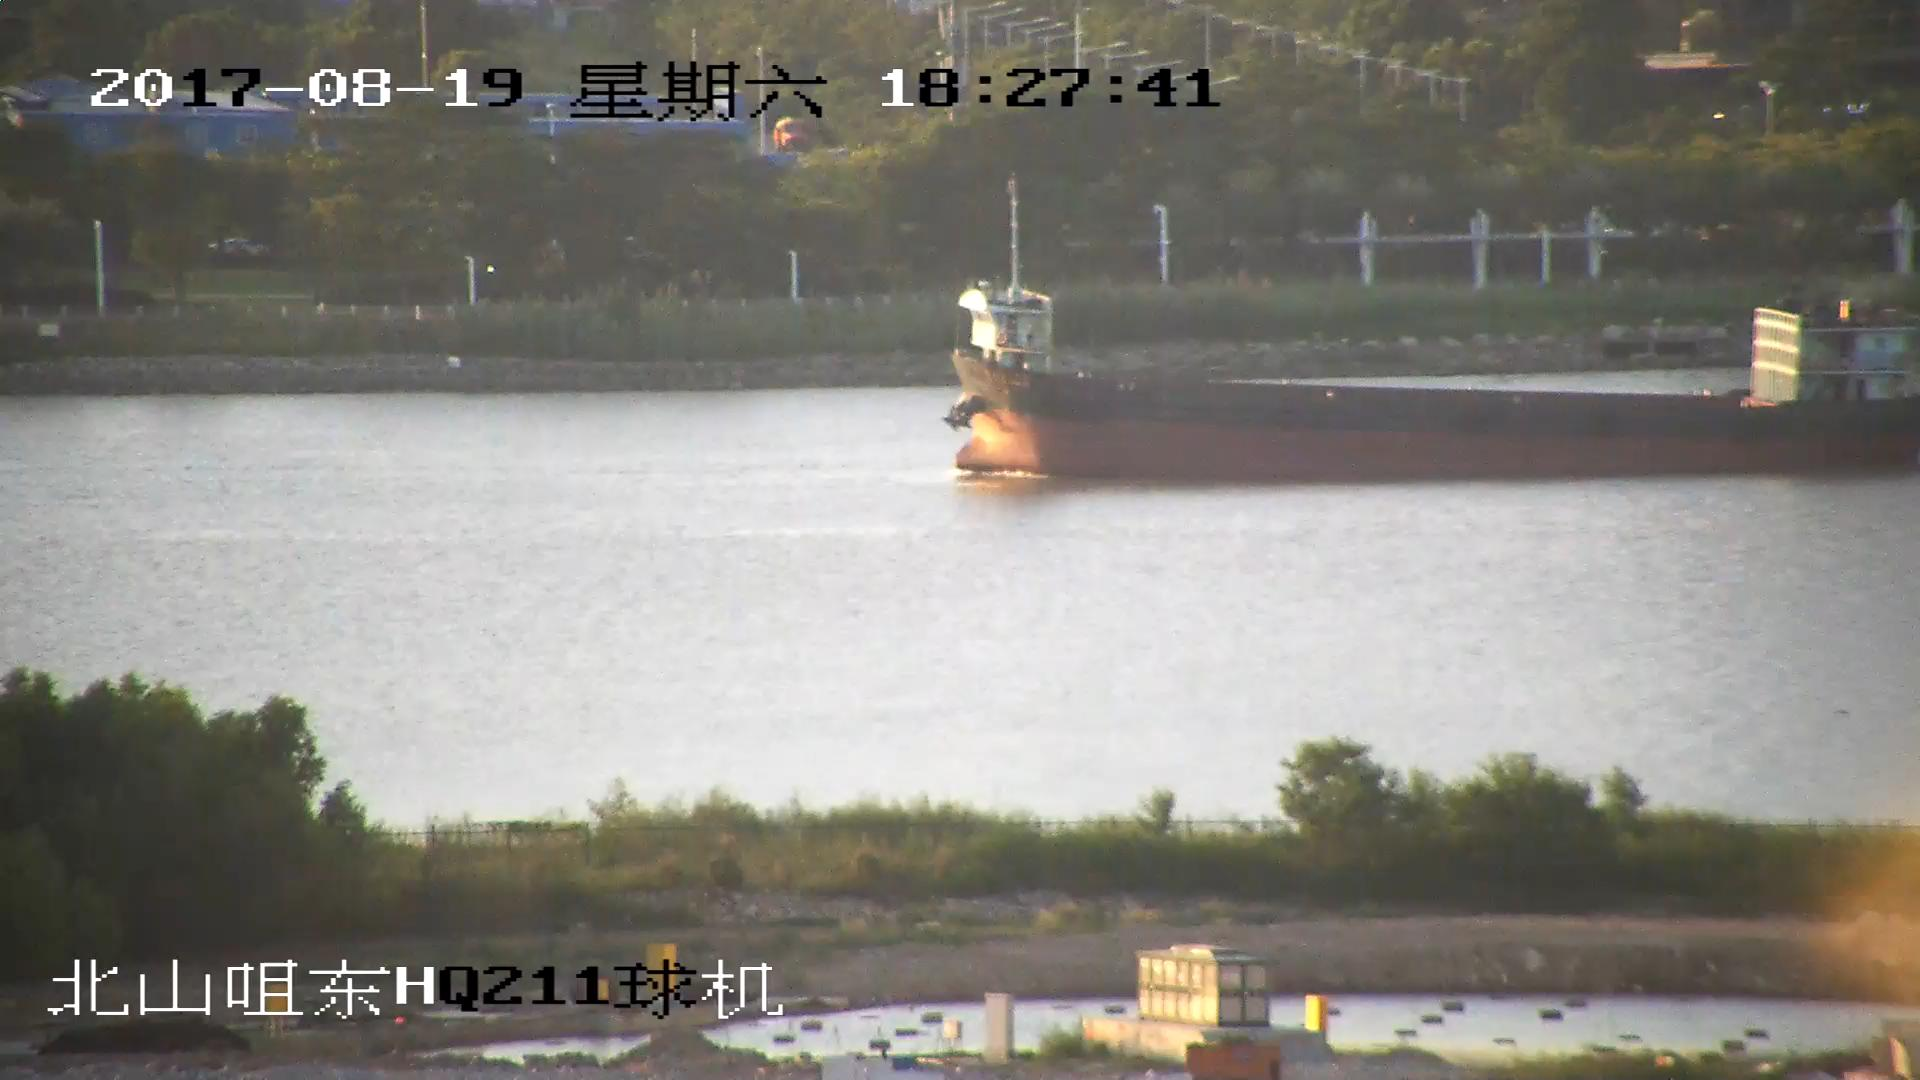general cargo ship: (951, 275, 1920, 487)
